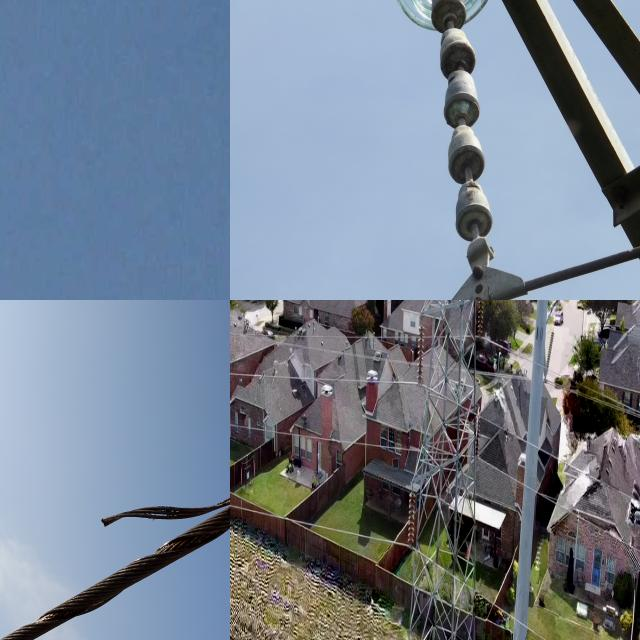杆塔: (403, 300, 482, 640)
正常电缆: (494, 408, 640, 518), (496, 455, 640, 564), (495, 332, 640, 429), (230, 492, 399, 565), (230, 406, 405, 464), (230, 353, 408, 404), (488, 591, 570, 640)
正常绝缘子: (385, 0, 505, 291), (414, 320, 427, 390), (406, 482, 418, 554), (475, 300, 488, 354), (472, 409, 484, 464)
电缆破损: (85, 454, 230, 636)
绝缘子破损: (448, 142, 485, 198), (444, 89, 481, 141), (440, 44, 478, 86), (456, 202, 490, 242), (432, 0, 466, 38)
